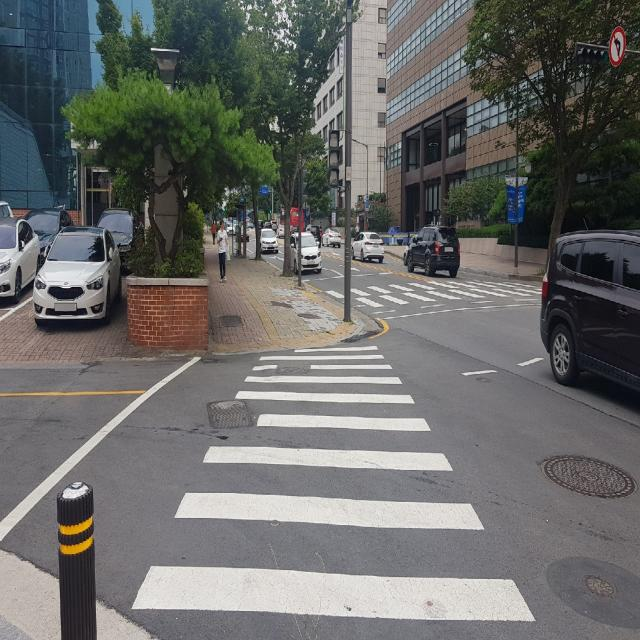횡단보도: (132, 343, 538, 625)
